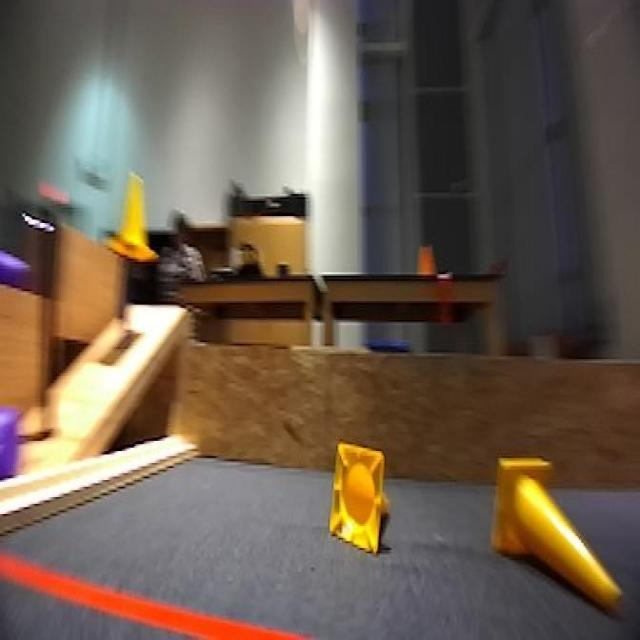frc_cone: (491, 449, 624, 613), (329, 437, 395, 555), (109, 165, 161, 276)
frc_cube: (0, 402, 21, 488), (0, 245, 30, 295)
